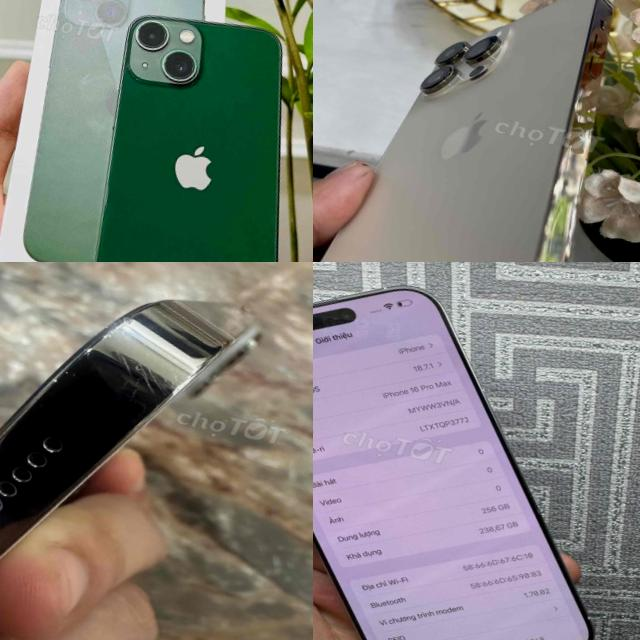scratch: (84, 322, 230, 418)
